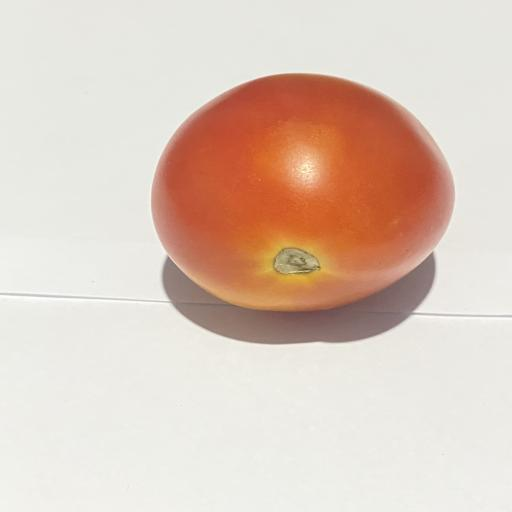ripe: (152, 74, 454, 311)
